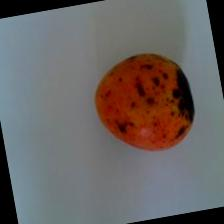Mango Overripe: (84, 42, 204, 164)
